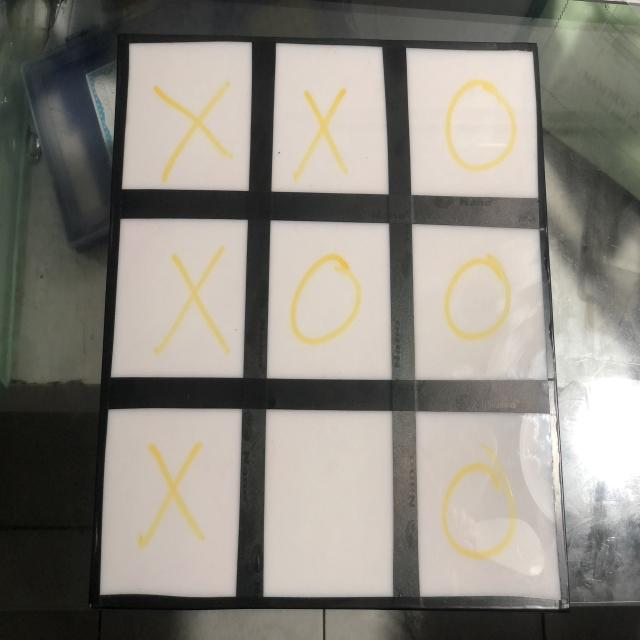null: (262, 410, 393, 599)
o: (438, 456, 520, 567), (438, 70, 522, 176), (291, 250, 365, 347), (441, 251, 514, 349)
table: (88, 33, 583, 620)
x: (156, 233, 234, 365), (148, 76, 236, 181), (137, 437, 211, 552), (296, 80, 350, 179)
